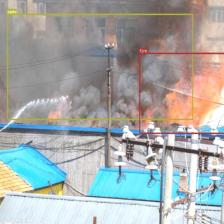fire: (139, 52, 224, 134)
smoke: (7, 13, 193, 120)
